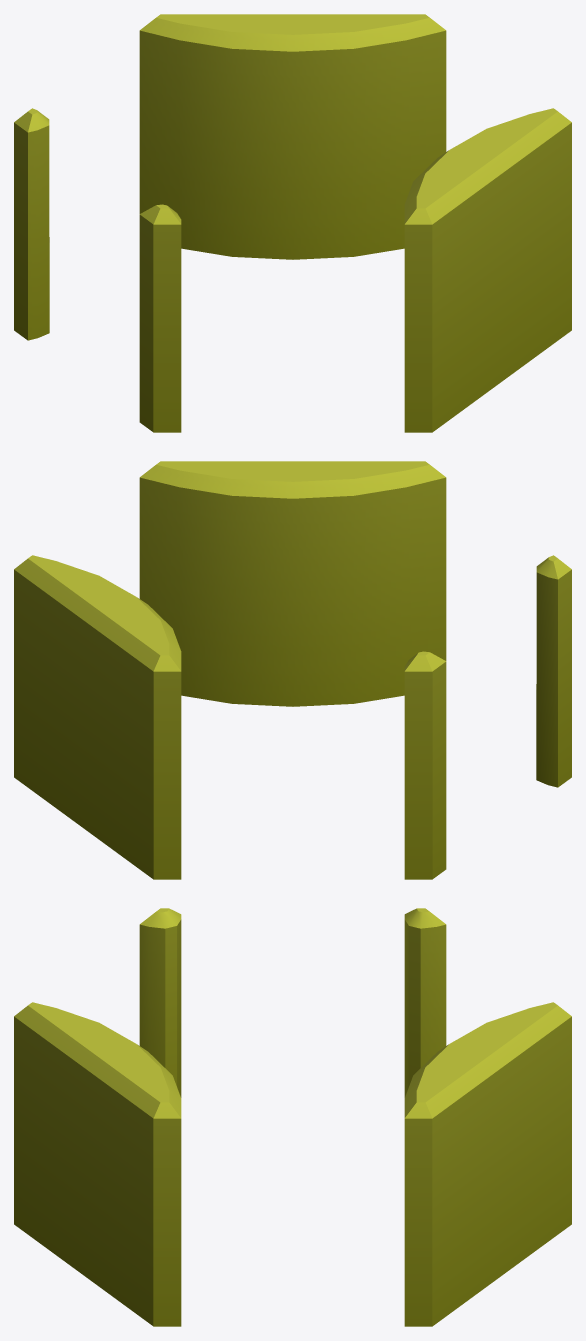
File: hex_river_H_waterless.glb
3 views of the same model, one above another, from view 1: azimuth 30°, elevation 25°; view 2: azimuth 150°, elevation 25°; view 3: azimuth 270°, elevation 25° (orthographic).
Parts seen in each view (by area): view 1: hex_river_H_waterless; view 2: hex_river_H_waterless; view 3: hex_river_H_waterless.
Part boxes in pixels (x1,y1,x2,y2): hex_river_H_waterless: [14, 14, 571, 432]; hex_river_H_waterless: [14, 461, 571, 879]; hex_river_H_waterless: [14, 908, 571, 1326].
Bounding box in the file's own units: 2 × 1 × 2.31.
Materials: 1 (1 with a texture image).
